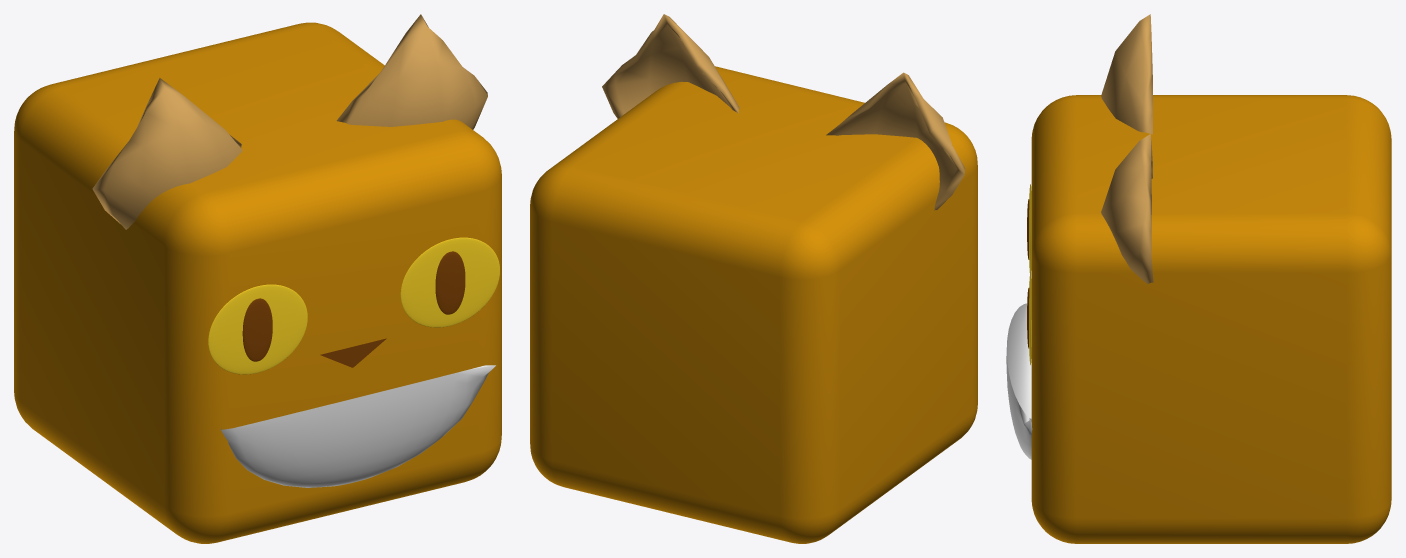
Rendered from catbus3.fbx.
3 renders of one model, left to right at view 1: azimuth 30°, elevation 25°; view 2: azimuth 150°, elevation 25°; view 3: azimuth 270°, elevation 25°, orthographic. The views are drawn at different scales.
Visible parts, largest first — view 1: Cube, Sphere.002, Plane.001, Plane.002, Cube.005, Cube.002, Cube.004, Cube.003, Circle; view 2: Cube, Plane.002, Plane.001; view 3: Cube, Plane.002, Plane.001, Sphere.002.
Boxes of the visible parts, x1=… form: Cube: x1=14, y1=22, x2=501, y2=543; Sphere.002: x1=221, y1=365, x2=495, y2=487; Plane.001: x1=92, y1=78, x2=242, y2=229; Plane.002: x1=336, y1=14, x2=487, y2=129; Cube.005: x1=208, y1=284, x2=307, y2=374; Cube.002: x1=400, y1=237, x2=499, y2=327; Cube.004: x1=435, y1=251, x2=465, y2=314; Cube.003: x1=242, y1=298, x2=272, y2=361; Circle: x1=320, y1=338, x2=386, y2=367; Cube: x1=530, y1=66, x2=977, y2=543; Plane.002: x1=602, y1=14, x2=739, y2=118; Plane.001: x1=826, y1=72, x2=965, y2=210; Cube: x1=1031, y1=95, x2=1391, y2=543; Plane.002: x1=1101, y1=134, x2=1153, y2=283; Plane.001: x1=1101, y1=14, x2=1152, y2=134; Sphere.002: x1=1006, y1=303, x2=1032, y2=459.
Bounding box in the file's own units: 238 × 251 × 214.
